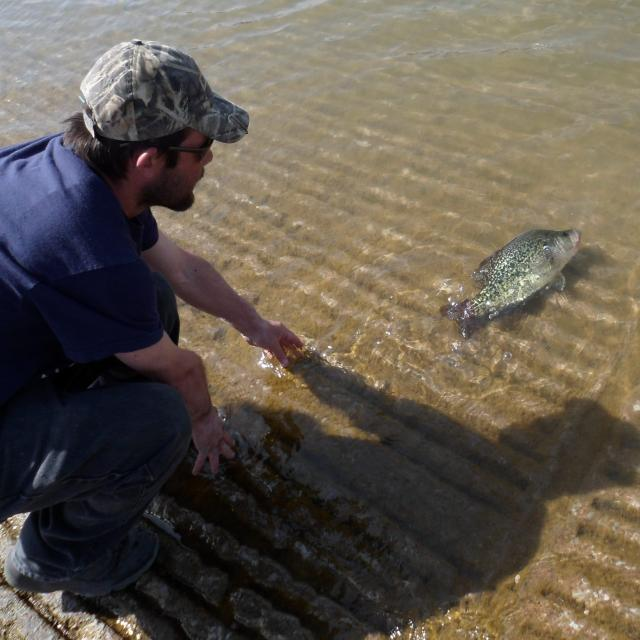Crappie - Black: (440, 229, 580, 337)
